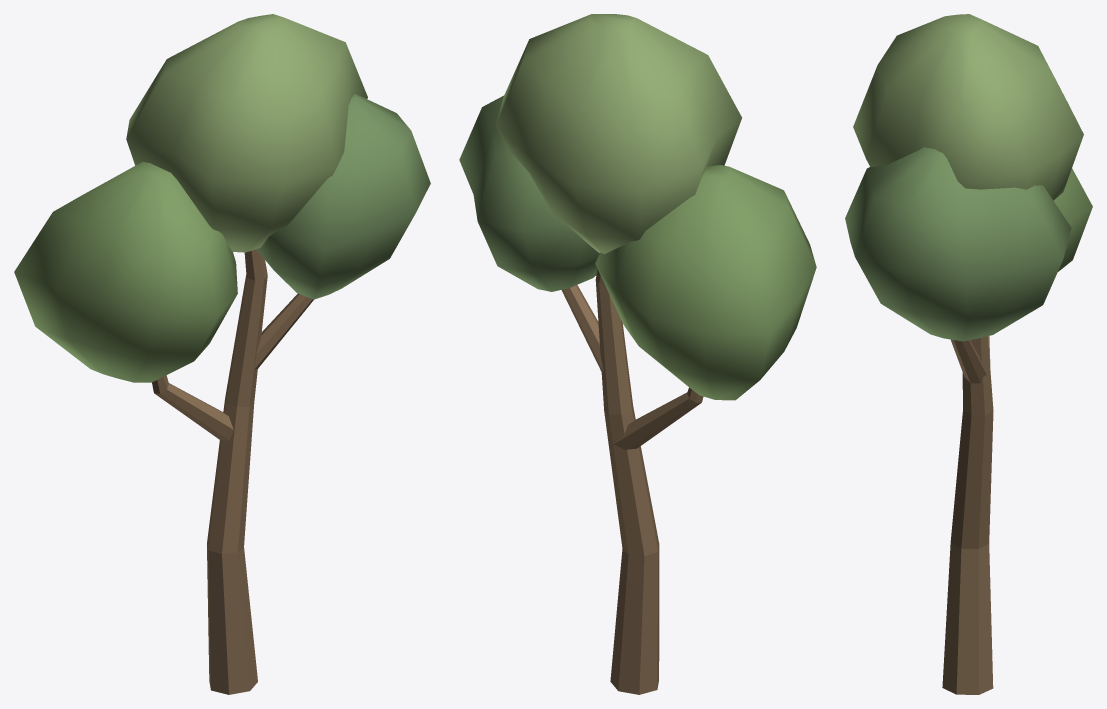
Rendered from narra-young.glb.
The picture shows the model from 3 angles, left to right: view 1: azimuth 30°, elevation 25°; view 2: azimuth 150°, elevation 25°; view 3: azimuth 270°, elevation 25°; orthographic projection. The views are drawn at different scales.
Parts seen in each view (by area): view 1: narra-young; view 2: narra-young; view 3: narra-young.
Boxes of the visible parts, x1,y1,x2,y2 form: narra-young: (14, 14, 430, 694); narra-young: (459, 14, 816, 694); narra-young: (845, 14, 1092, 694).
Size of the model in its own units: 4.04 by 7.17 by 2.38.
